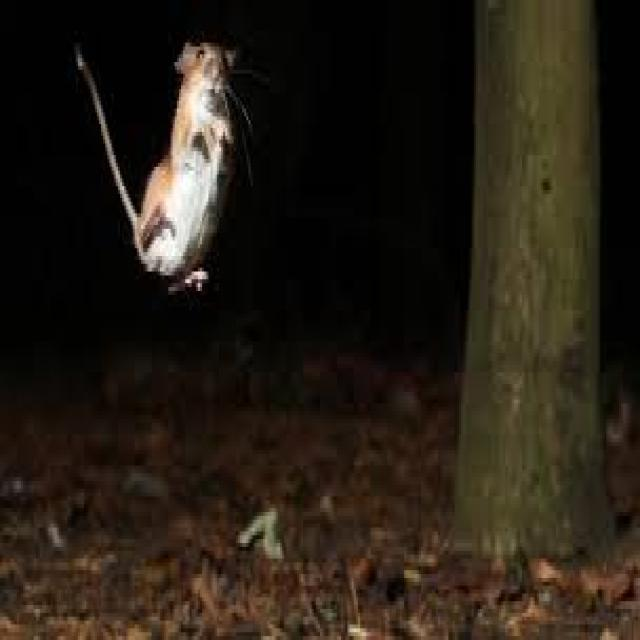Rat: (38, 26, 290, 321)
